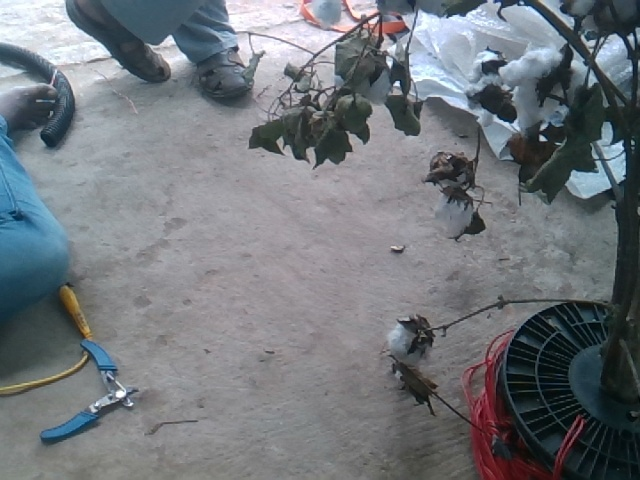cotton: (464, 52, 502, 122), (432, 198, 475, 239), (388, 323, 424, 365)
